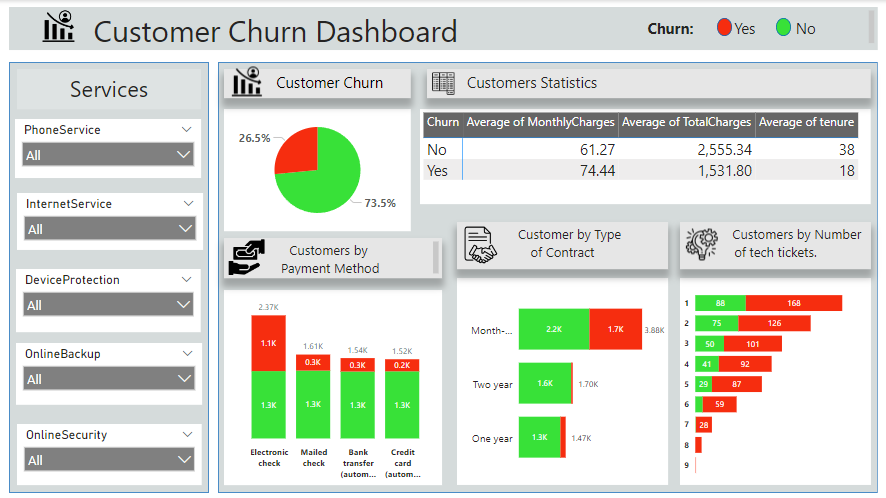

What the dashboard file says about the page in this screenshot:
{"tool":"powerbi","page":{"name":"Page 1","canvas":[1280,720],"ordinal":0},"visuals":[{"type":"shape","box":[316.8,89.3,950.4,620.6],"z":0},{"type":"textbox","box":[15.8,10.1,1251.4,61.9],"z":1000},{"type":"image","box":[57.6,7.2,59,61.9],"z":2000},{"type":"shape","box":[15.8,89.3,288,620.6],"z":3000},{"type":"pieChart","fields":{"Category":["01 Churn-Dataset.Churn"],"Y":["CountNonNull(01 Churn-Dataset.customerID)"]},"box":[325.4,157,269.3,175.7],"z":4000},{"type":"textbox","box":[325.4,99.4,269.3,41.8],"z":5000},{"type":"image","box":[315.4,89.3,86.4,56.2],"z":6000},{"type":"barChart","fields":{"Category":["01 Churn-Dataset.Contract"],"Y":["CountNonNull(01 Churn-Dataset.customerID)"],"Series":["01 Churn-Dataset.Churn"]},"box":[661,400.3,303.8,298.1],"z":7000},{"type":"columnChart","fields":{"Category":["01 Churn-Dataset.PaymentMethod"],"Y":["CountNonNull(01 Churn-Dataset.customerID)"],"Series":["01 Churn-Dataset.Churn"]},"box":[325.4,417.6,313.9,280.8],"z":8000},{"type":"barChart","fields":{"Category":["01 Churn-Dataset.numTechTickets"],"Y":["CountNonNull(01 Churn-Dataset.customerID)"],"Series":["01 Churn-Dataset.Churn"]},"box":[982.1,400.3,275,298.1],"z":9000},{"type":"pivotTable","fields":{"Rows":["01 Churn-Dataset.Churn"],"Values":["Avg(01 Churn-Dataset.MonthlyCharges)","Avg(01 Churn-Dataset.TotalCharges)","Avg(01 Churn-Dataset.tenure)"]},"box":[607.7,157,649.4,136.8],"z":10000},{"type":"slicer","fields":{"Values":["01 Churn-Dataset.DeviceProtection"]},"box":[25.9,387.4,266.4,90.7],"z":11000},{"type":"slicer","fields":{"Values":["01 Churn-Dataset.InternetService"]},"box":[27.4,277.9,267.8,82.1],"z":12000},{"type":"slicer","fields":{"Values":["01 Churn-Dataset.PhoneService"]},"box":[24.5,171.4,267.8,85],"z":13000},{"type":"slicer","fields":{"Values":["01 Churn-Dataset.OnlineBackup"]},"box":[25.9,493.9,267.8,89.3],"z":14000},{"type":"slicer","fields":{"Values":["01 Churn-Dataset.OnlineSecurity"]},"box":[27.4,610.6,266.4,87.8],"z":15000},{"type":"textbox","box":[27.4,99.4,265,57.6],"z":16000},{"type":"textbox","box":[617.8,99.4,639.4,41.8],"z":17000},{"type":"textbox","box":[982.1,319.7,275,67.7],"z":18000},{"type":"textbox","box":[325.4,342.7,313.9,57.6],"z":19000},{"type":"textbox","box":[868.3,21.6,375.8,50.4],"z":20000},{"type":"shape","box":[1035.4,25.9,21.6,25.9],"z":21000},{"type":"shape","box":[1120.3,25.9,21.6,25.9],"z":22000},{"type":"textbox","box":[661,319.7,303.8,67.7],"z":23000},{"type":"image","box":[619.2,99.4,44.6,41.8],"z":24000},{"type":"image","box":[325.4,337,64.8,67.7],"z":25000},{"type":"image","box":[663.8,318.2,63.4,69.1],"z":26000},{"type":"image","box":[970.6,324,86.4,56.2],"z":27000}]}

Visuals, with their boxes in screenshot pixels (x1, y1, x2, y2), scaled from the page's 1280x720 canvas onto the 886x498 screenshot:
shape: [219,62,877,491]
textbox: [11,7,877,50]
image: [40,5,81,48]
shape: [11,62,210,491]
pieChart - 01 Churn-Dataset.Churn x CountNonNull(01 Churn-Dataset.customerID): [225,109,412,230]
textbox: [225,69,412,98]
image: [218,62,278,101]
barChart - 01 Churn-Dataset.Contract x CountNonNull(01 Churn-Dataset.customerID): [458,277,668,483]
columnChart - 01 Churn-Dataset.PaymentMethod x CountNonNull(01 Churn-Dataset.customerID): [225,289,443,483]
barChart - 01 Churn-Dataset.numTechTickets x CountNonNull(01 Churn-Dataset.customerID): [680,277,870,483]
pivotTable - 01 Churn-Dataset.Churn x Avg(01 Churn-Dataset.MonthlyCharges): [421,109,870,203]
slicer - 01 Churn-Dataset.DeviceProtection: [18,268,202,331]
slicer - 01 Churn-Dataset.InternetService: [19,192,204,249]
slicer - 01 Churn-Dataset.PhoneService: [17,119,202,177]
slicer - 01 Churn-Dataset.OnlineBackup: [18,342,203,403]
slicer - 01 Churn-Dataset.OnlineSecurity: [19,422,203,483]
textbox: [19,69,202,109]
textbox: [428,69,870,98]
textbox: [680,221,870,268]
textbox: [225,237,443,277]
textbox: [601,15,861,50]
shape: [717,18,732,36]
shape: [775,18,790,36]
textbox: [458,221,668,268]
image: [429,69,459,98]
image: [225,233,270,280]
image: [459,220,503,268]
image: [672,224,732,263]
